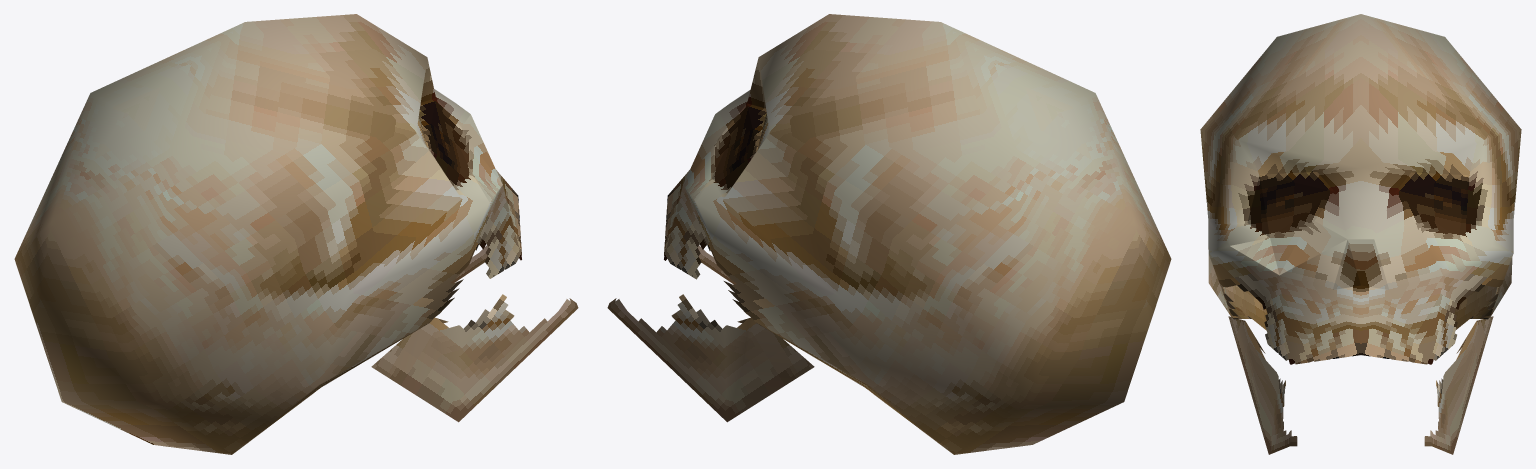
File: battlegladeskullhuman1.obj
The picture shows the model from 3 angles, left to right: view 1: azimuth 30°, elevation 25°; view 2: azimuth 150°, elevation 25°; view 3: azimuth 270°, elevation 25°; orthographic projection. The views are drawn at different scales.
Size of the model in its own units: 0.2833 by 0.2091 by 0.1652.
Materials: 1 (1 with a texture image).
